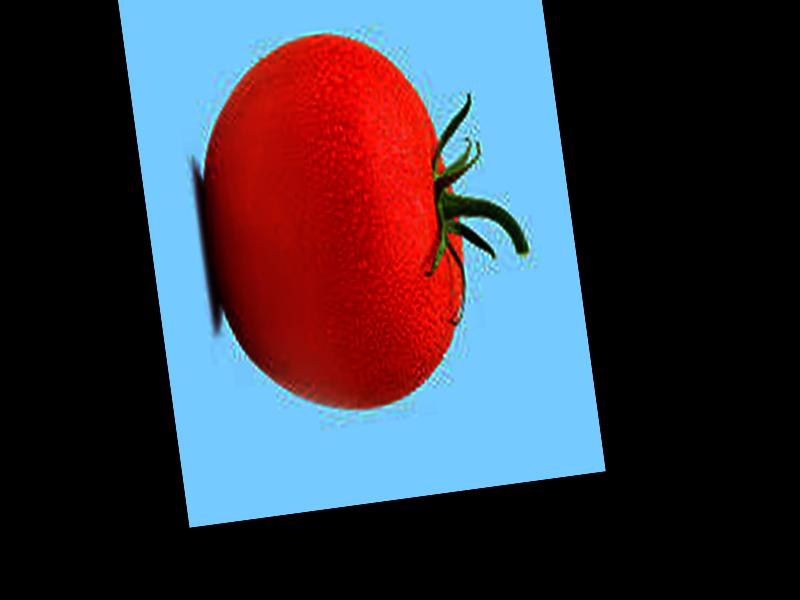Tomato: (187, 19, 479, 424)
